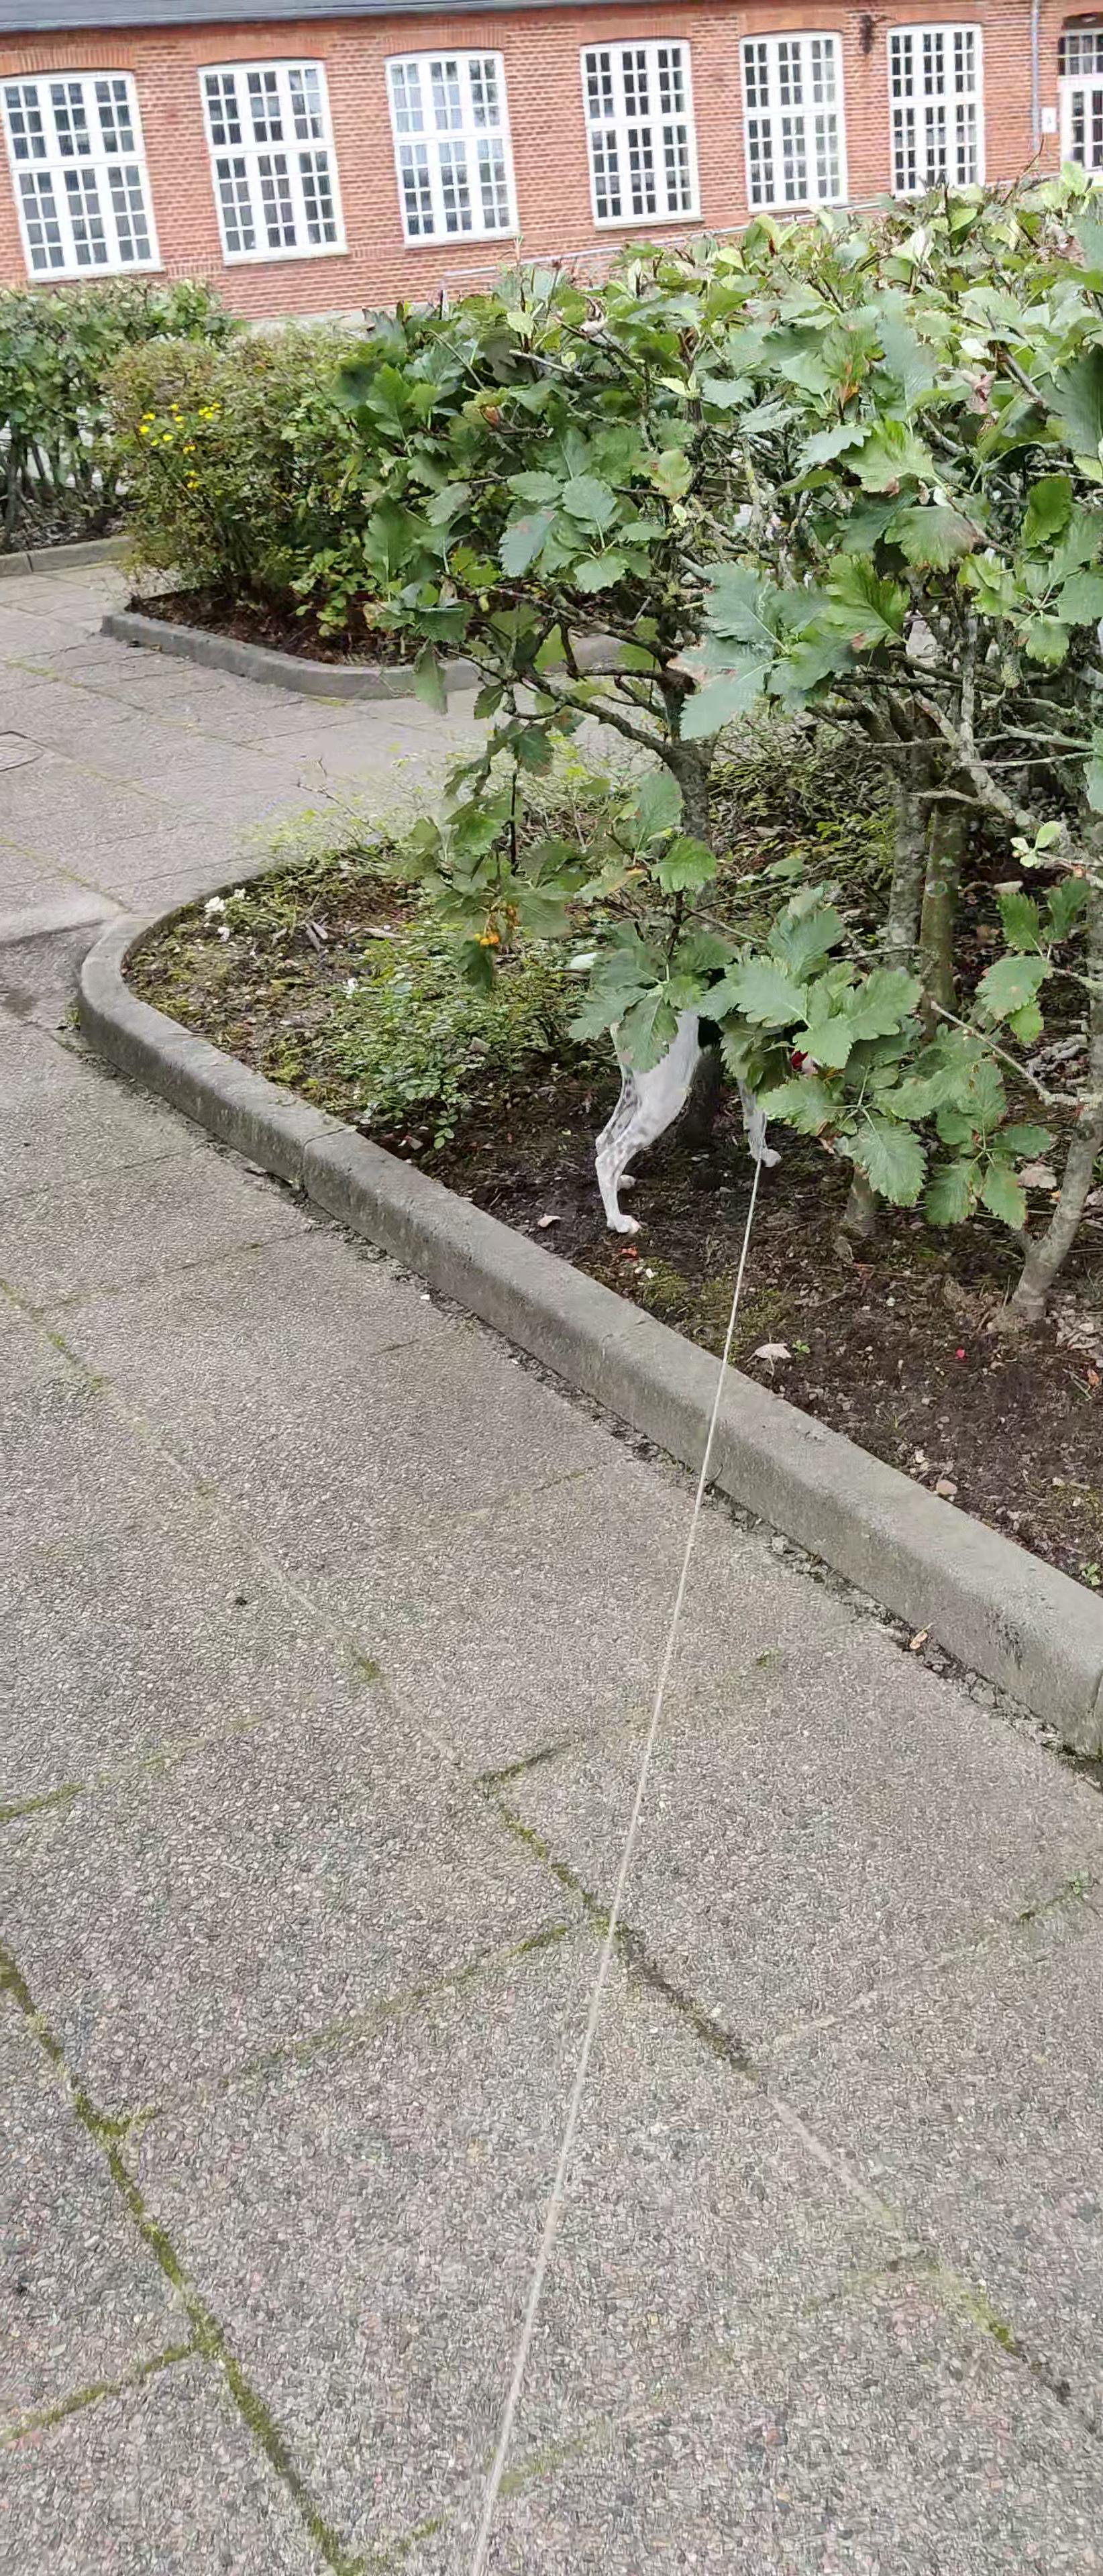Dog: (561, 936, 851, 1235)
